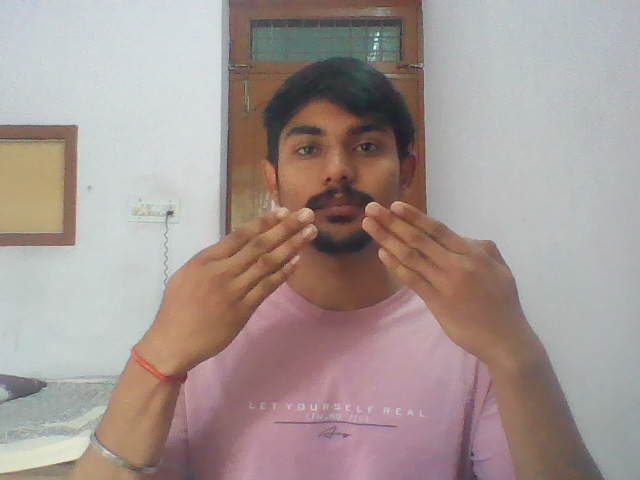Thanks: (103, 195, 558, 361)
